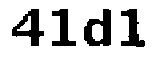1: (116, 5, 148, 53), (47, 5, 79, 52)
4: (7, 7, 47, 51)
d: (80, 5, 114, 50)
